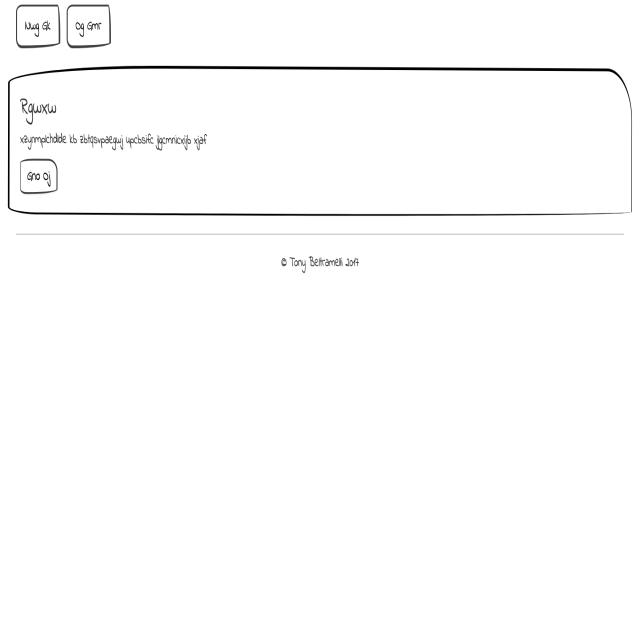Button: (19, 158, 65, 196)
Card: (6, 61, 634, 220)
Footer: (0, 225, 640, 640)
Heading 6: (16, 92, 63, 125)
Navigation Bar: (12, 1, 112, 48)
Paragraph: (13, 125, 212, 154)
